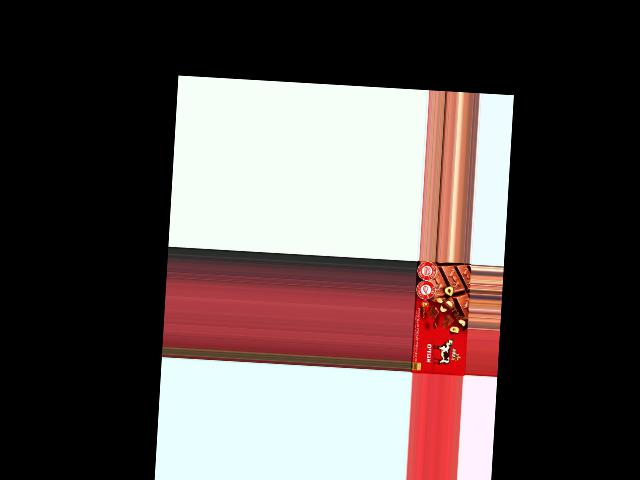chocolate: (412, 261, 470, 376)
